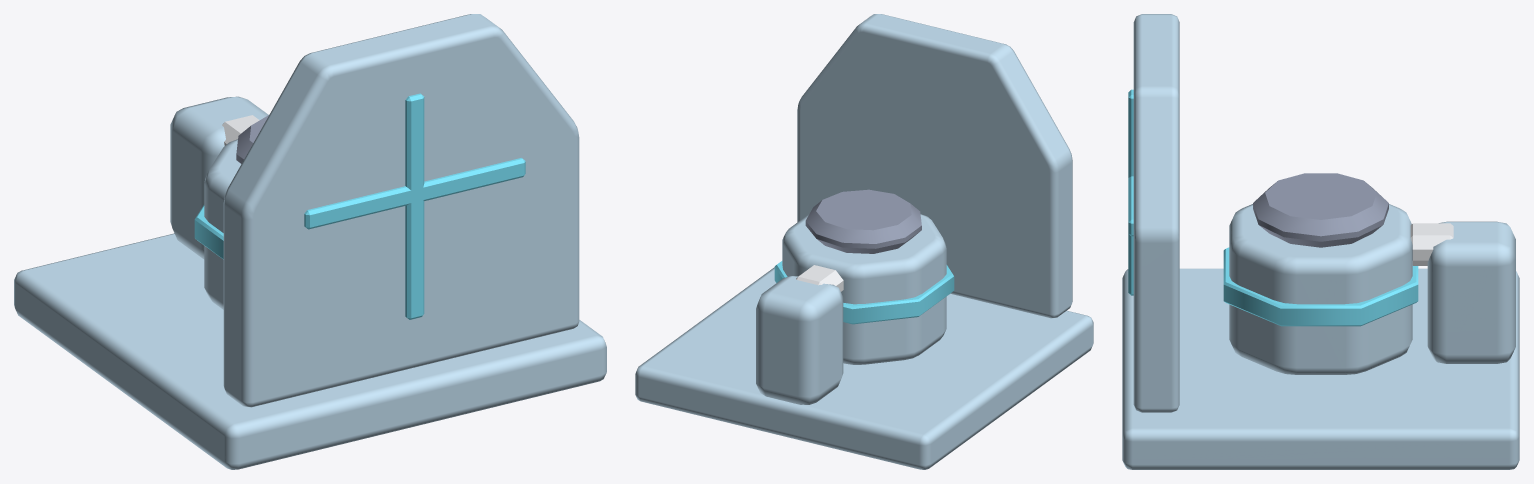
Rendered from R4X_DefensiveTurretDeployer.fbx.
The picture shows the model from 3 angles, left to right: view 1: azimuth 30°, elevation 25°; view 2: azimuth 150°, elevation 25°; view 3: azimuth 270°, elevation 25°; orthographic projection. The views are drawn at different scales.
Visible parts, largest first — view 1: R4X_DefensiveTurretDeployer_Pod, R4X_DefensiveTurretDeployer_Body; view 2: R4X_DefensiveTurretDeployer_Pod, R4X_DefensiveTurretDeployer_Body; view 3: R4X_DefensiveTurretDeployer_Body, R4X_DefensiveTurretDeployer_Pod.
Part boxes in pixels (<box>): R4X_DefensiveTurretDeployer_Pod: <box>194,14,579,407</box>; R4X_DefensiveTurretDeployer_Body: <box>14,96,606,469</box>; R4X_DefensiveTurretDeployer_Pod: <box>774,14,1072,364</box>; R4X_DefensiveTurretDeployer_Body: <box>635,265,1093,469</box>; R4X_DefensiveTurretDeployer_Body: <box>1122,221,1519,469</box>; R4X_DefensiveTurretDeployer_Pod: <box>1128,14,1418,412</box>.
Bounding box in the file's own units: 0.52 × 0.49 × 0.52.
